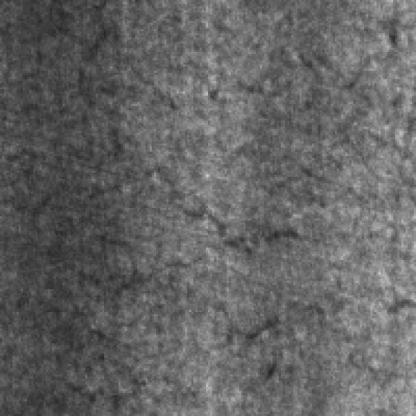crazing: (35, 179, 310, 297), (73, 41, 362, 121), (187, 301, 410, 384)
